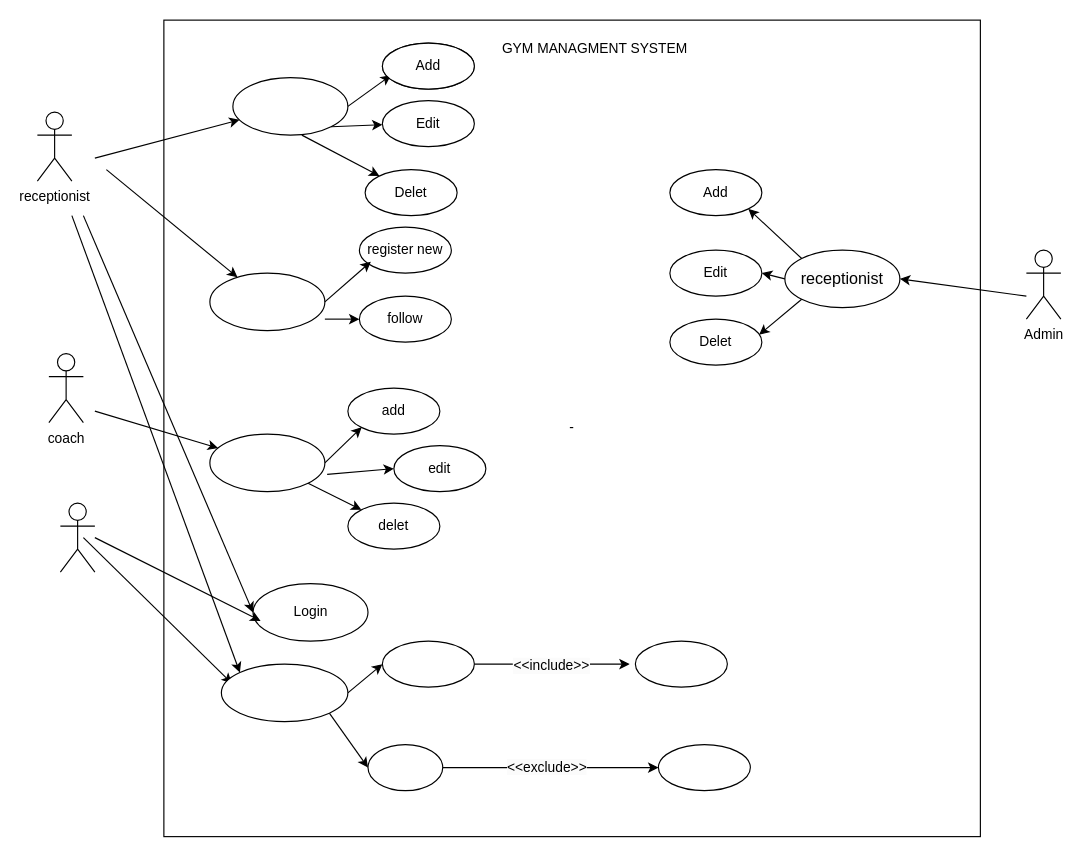
This 1083x857 diagram has some shape labels left out. Here are the shapes that lost their labels. From the top down, the centre of each, then its label:
At (290,105): "members manage".
At (267,301): "malfunctions".
At (267,462): "exercise".
At (77,537): "user".
At (427,663): "pay".
At (680,663): "update database".
At (284,692): "payment".
At (405,767): "view details".
At (703,767): "notification".
